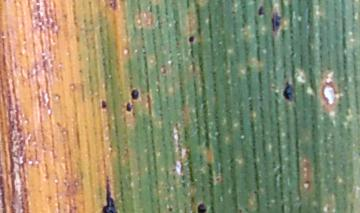tarspot: (100, 174, 118, 213), (270, 3, 281, 33), (282, 79, 294, 101), (196, 201, 208, 213), (255, 5, 266, 18), (108, 1, 120, 12), (130, 87, 139, 101), (99, 98, 108, 109), (125, 101, 132, 114), (187, 34, 194, 44)
